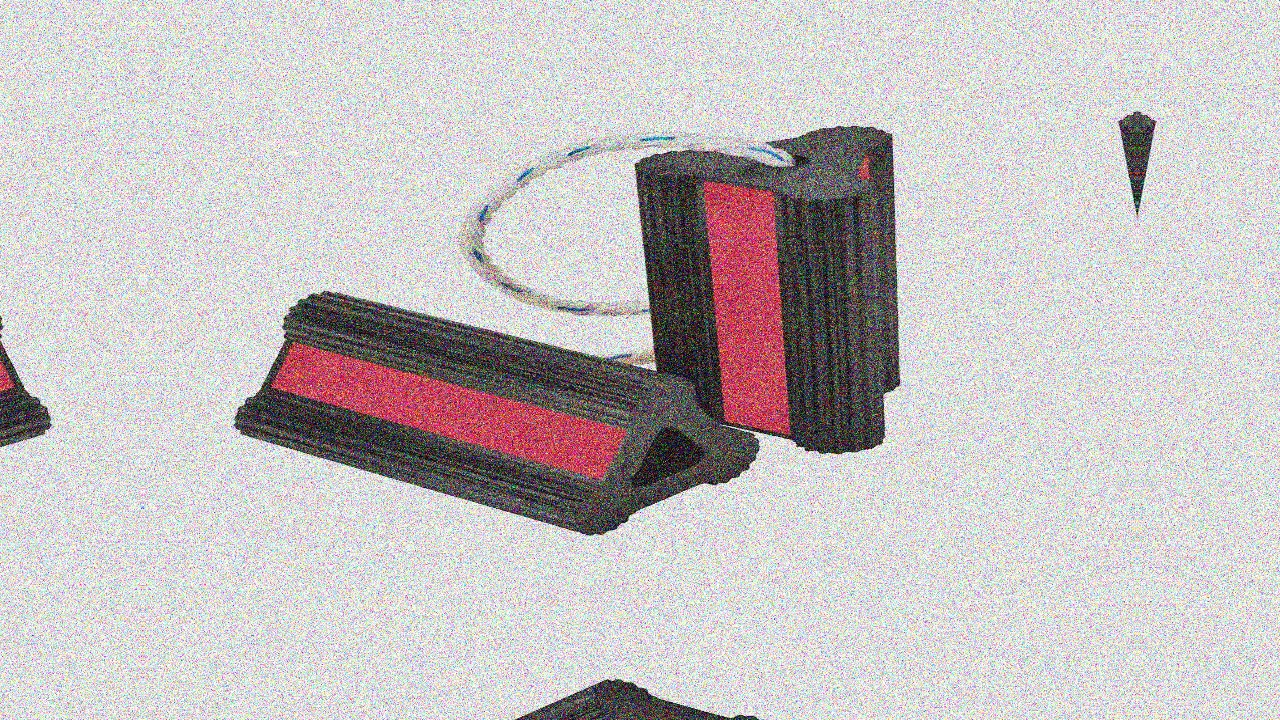chock: (217, 262, 768, 559), (626, 118, 941, 465), (0, 262, 68, 559)
